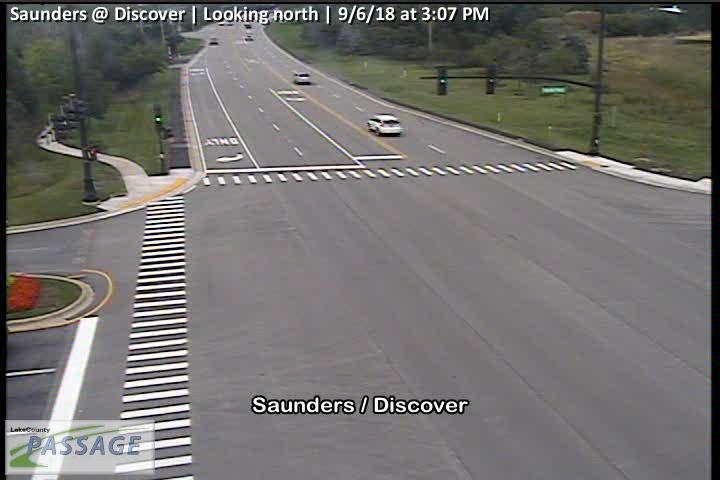Sedan: (367, 111, 402, 136)
